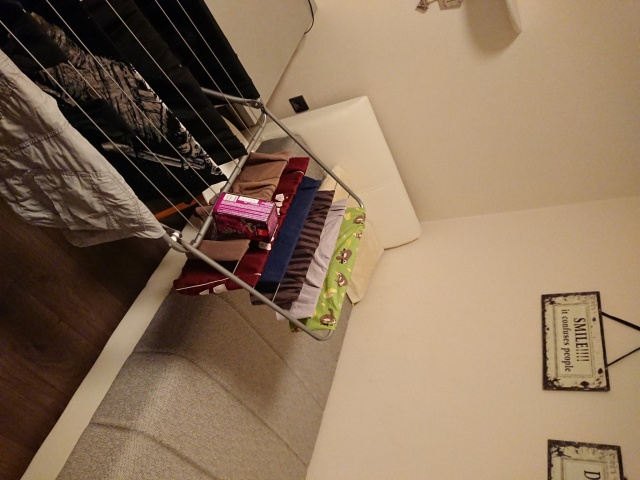Franck Black Currant Tea 60g: (210, 190, 280, 244)
